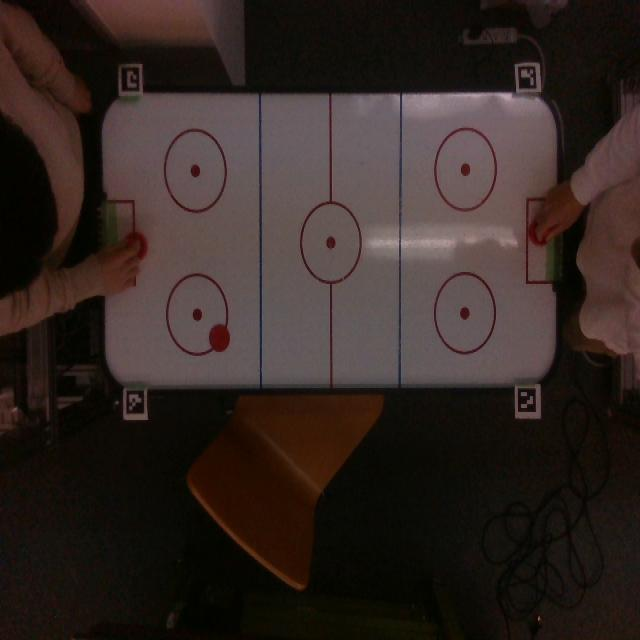puck: (209, 324, 230, 352)
